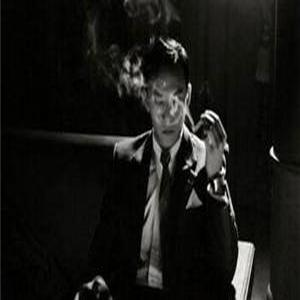cigarette: (192, 119, 203, 132)
